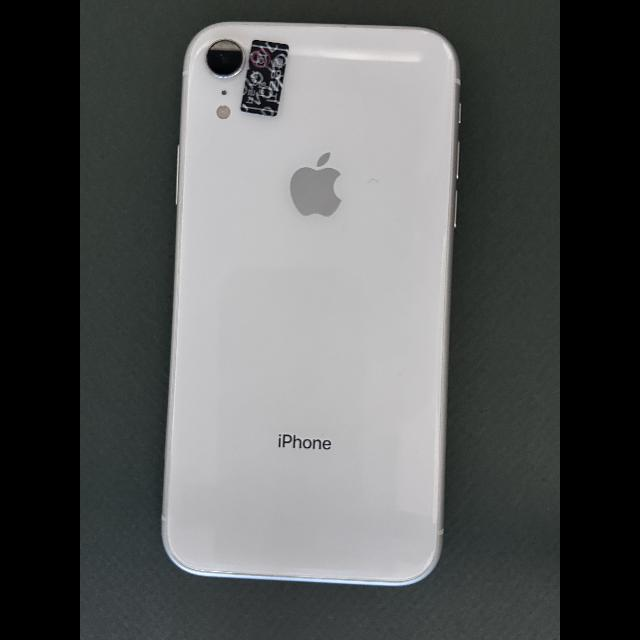lens: (205, 38, 245, 78)
phone: (161, 21, 461, 586)
sticker: (240, 40, 289, 117)
